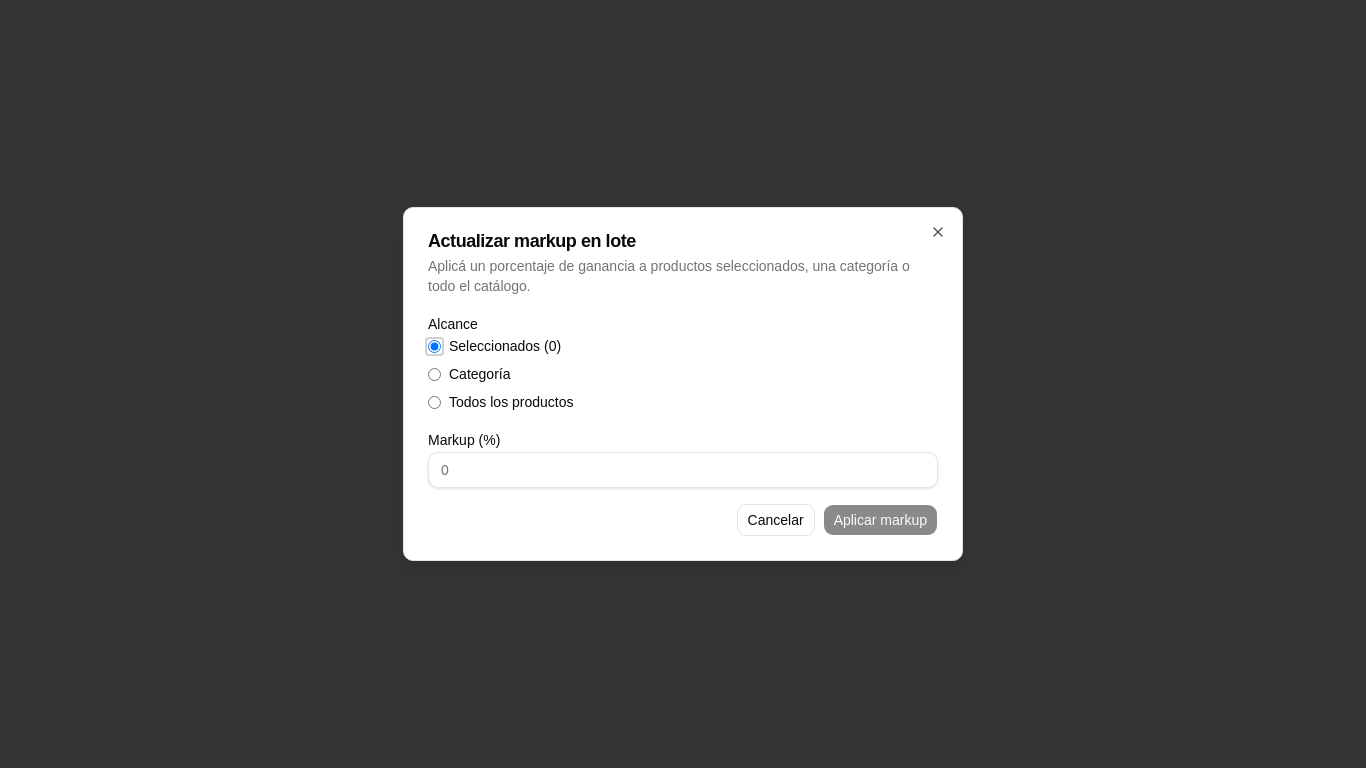
Test: BulkMarkupDialog › requires category selection for category scope
Click the radio button labelled "Categoría".
click(434, 374)  # box [428,368,441,380]
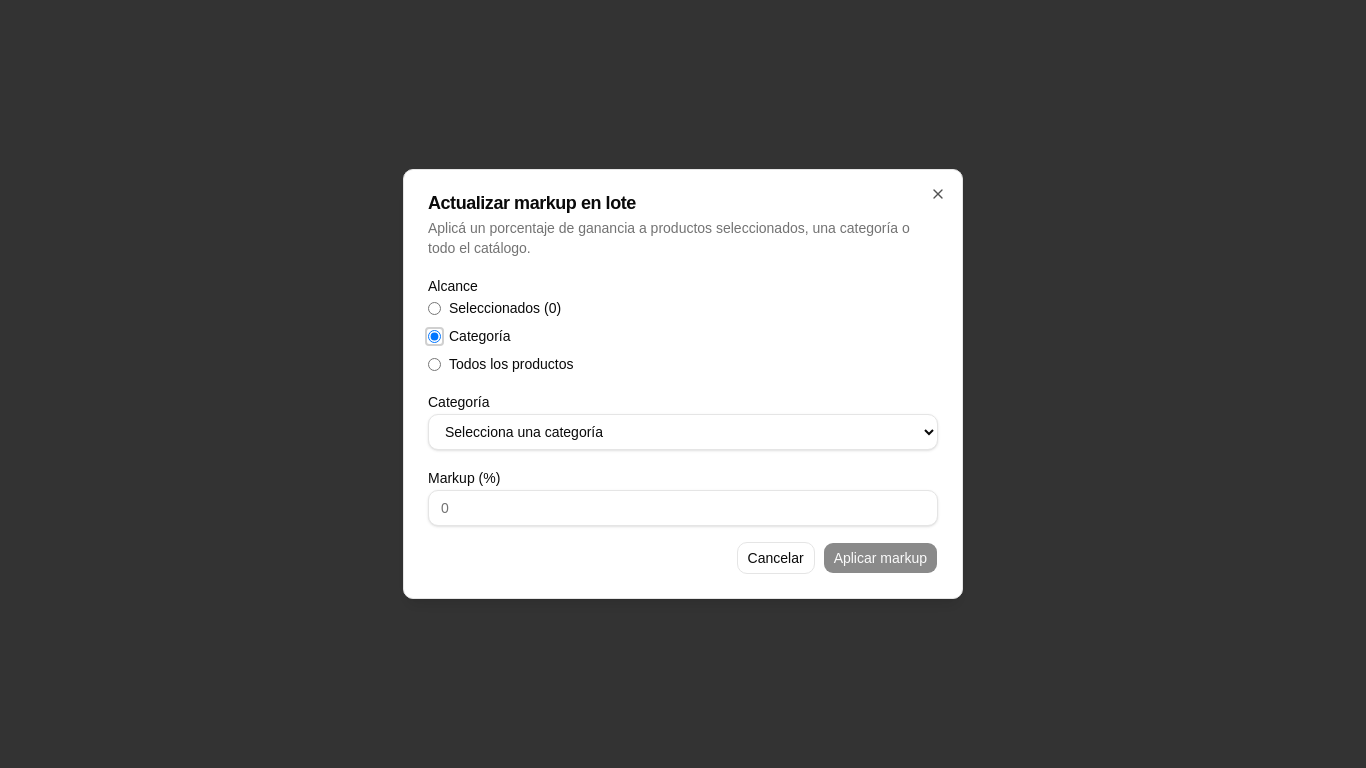
Type "15" into the number field labelled "Markup (%)".
click(683, 508); type("15")  # box [428,490,938,526]
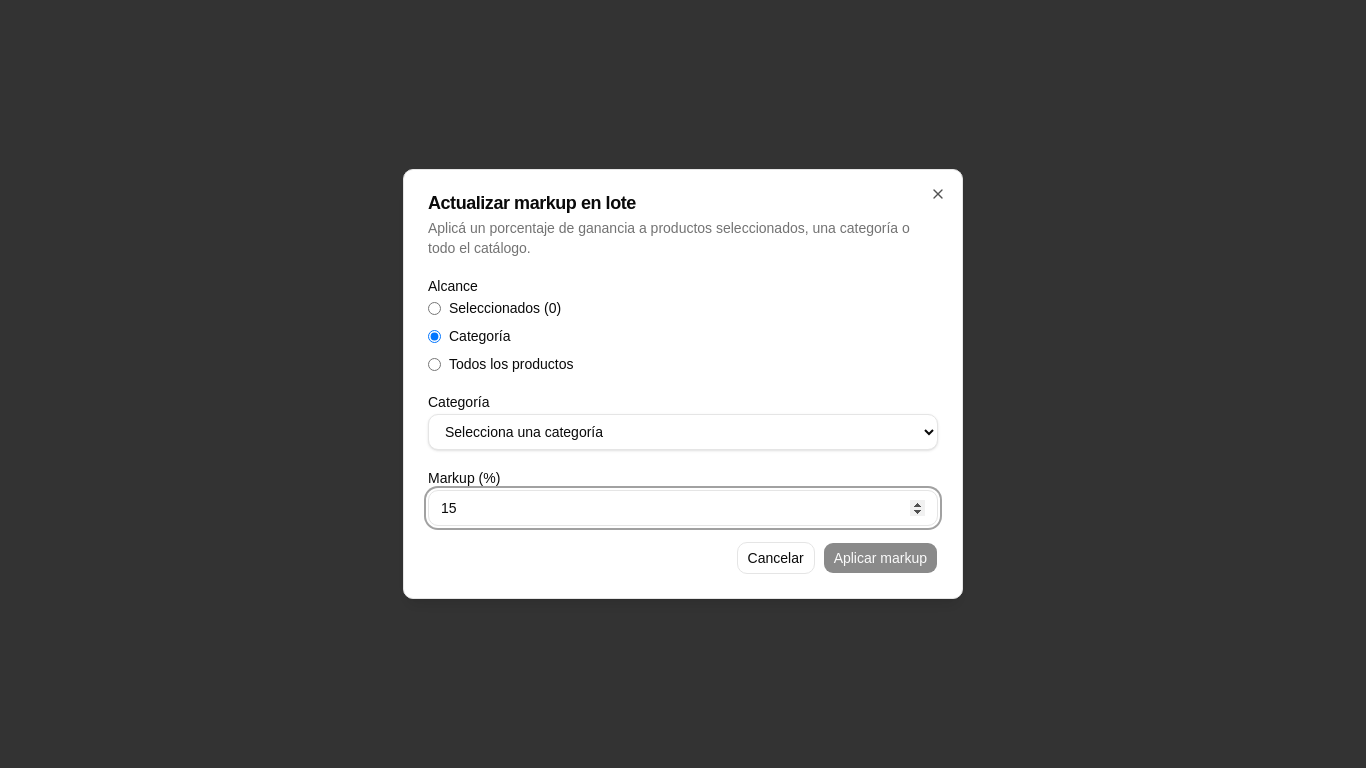
Check: the button "Aplicar markup" is disabled, box [823,542,938,574]
Select "Alimentos" in the dropdown labelled "Categoría" at (683, 432), box [428,414,938,450]
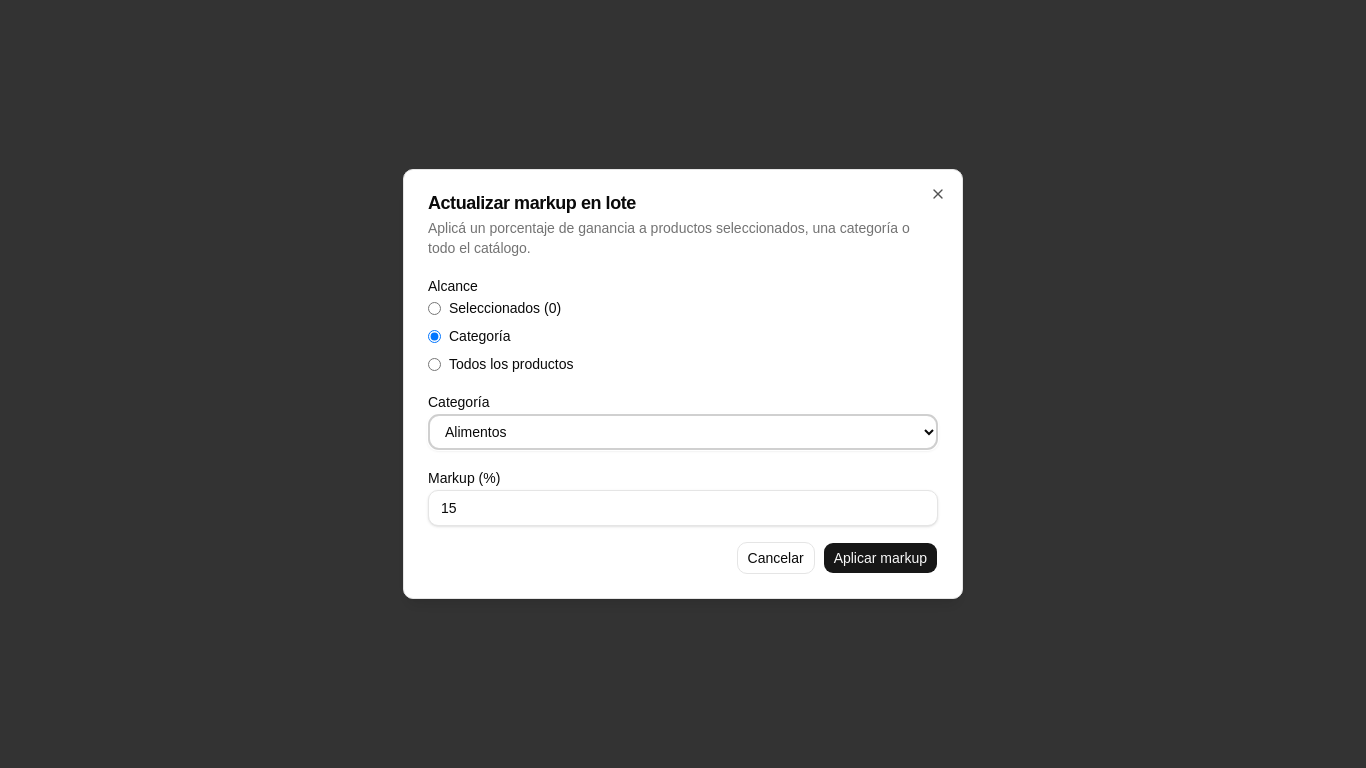
Check: the button "Aplicar markup" is enabled, box [823,542,938,574]
